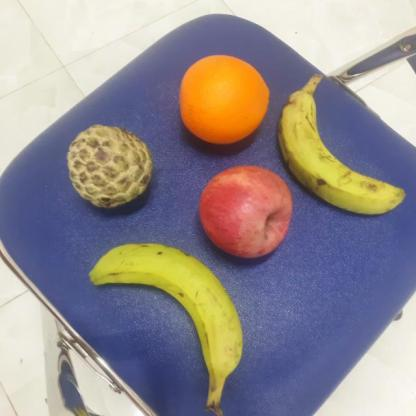annona: (64, 122, 155, 210)
apple: (195, 164, 296, 260)
banana: (80, 243, 242, 391), (274, 91, 402, 221)
orange: (177, 54, 271, 147)
